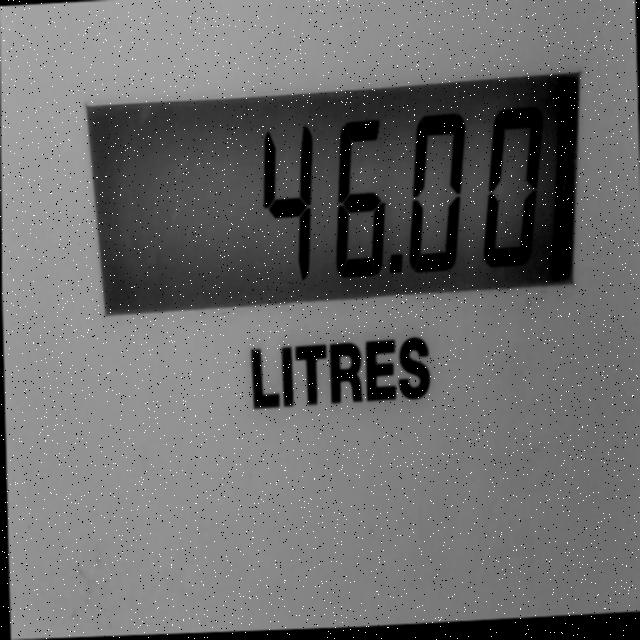.: (382, 239, 417, 301)
0: (471, 111, 557, 305), (407, 109, 474, 316)
4: (257, 105, 318, 283)
6: (326, 113, 390, 294)
